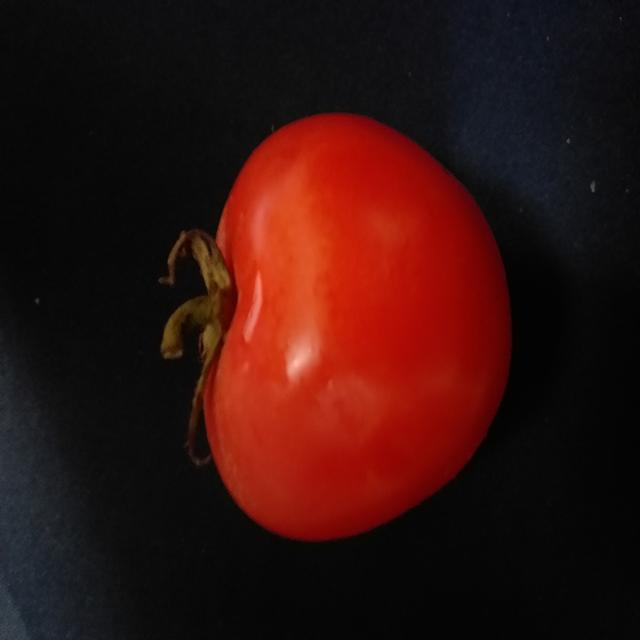tomato: (156, 87, 547, 541)
